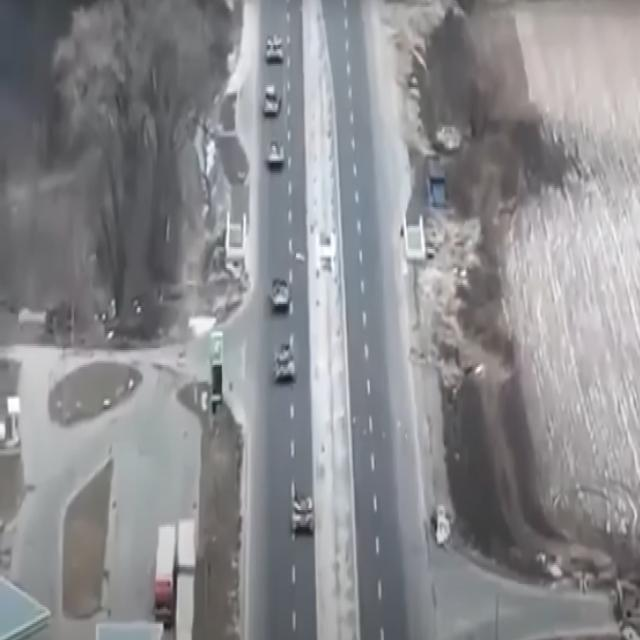AIFV: (271, 274, 292, 313), (262, 84, 283, 122), (265, 139, 287, 173)
MBT: (289, 492, 316, 541), (273, 341, 299, 390), (265, 30, 287, 67)
